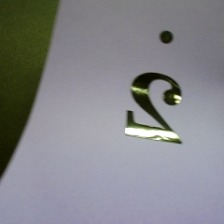violet2: (118, 29, 191, 150)
